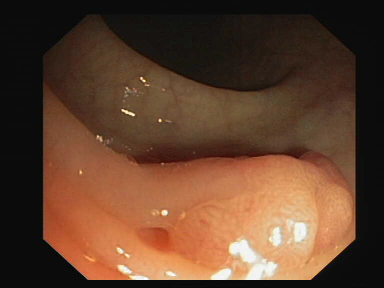polyp: (152, 106, 355, 271)
